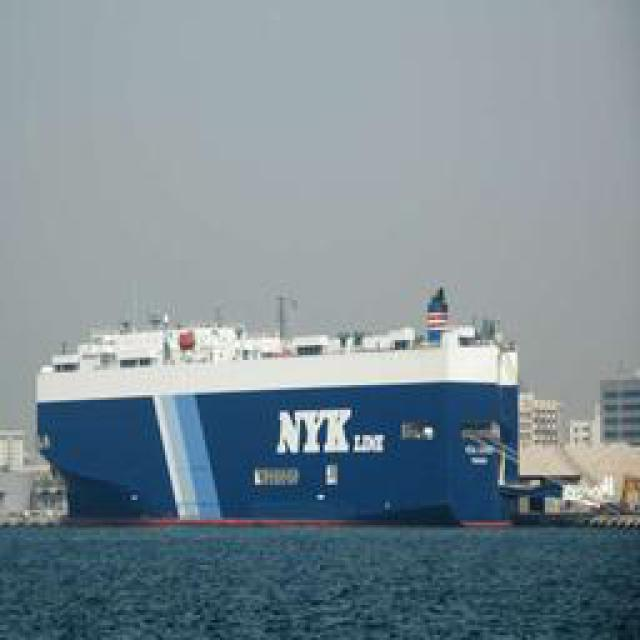Ship: (32, 282, 535, 525)
